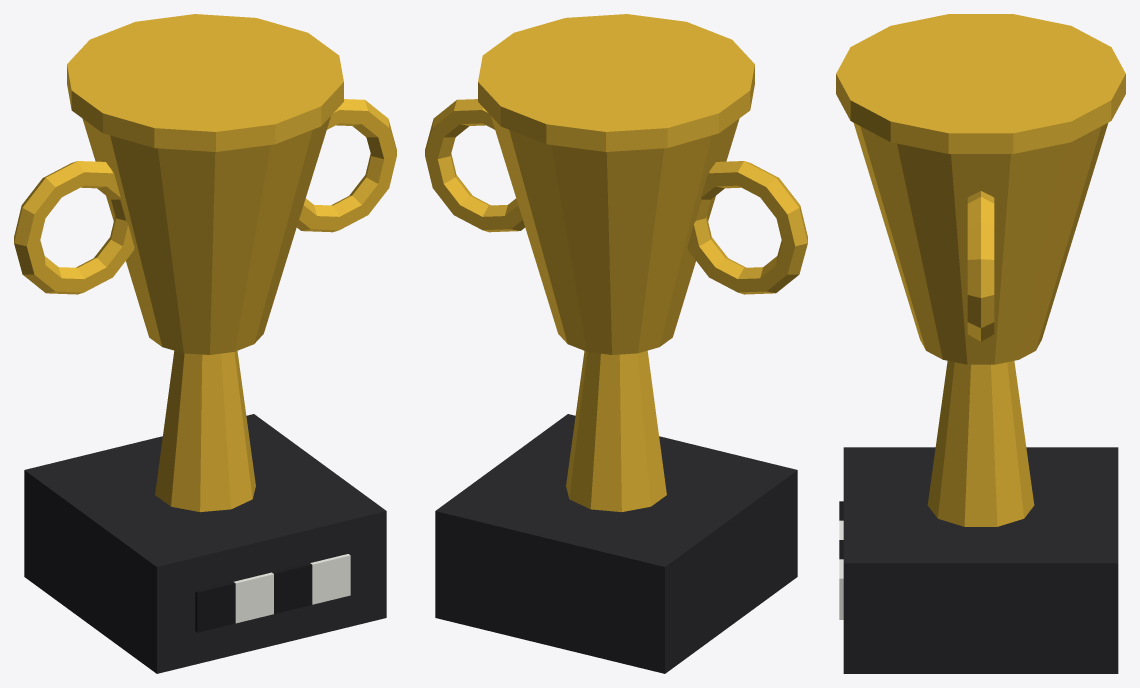
Rendered from garage_race_trophy.glb.
3 views of the same model, side by side, from view 1: azimuth 30°, elevation 25°; view 2: azimuth 150°, elevation 25°; view 3: azimuth 270°, elevation 25° (orthographic). The views are drawn at different scales.
Parts seen in each view (by area): view 1: base_flash_black, cup_trophy_gold, rim_trophy_gold, handles_trophy_gold, stem_trophy_gold, checks_check_black (×2), checks_check_white (×2); view 2: base_flash_black, cup_trophy_gold, rim_trophy_gold, handles_trophy_gold, stem_trophy_gold; view 3: base_flash_black, cup_trophy_gold, rim_trophy_gold, stem_trophy_gold, handles_trophy_gold.
Part boxes in pixels (x1=…): base_flash_black: x1=24, y1=414, x2=386, y2=673; cup_trophy_gold: x1=82, y1=116, x2=330, y2=354; rim_trophy_gold: x1=67, y1=14, x2=343, y2=151; handles_trophy_gold: x1=14, y1=99, x2=396, y2=294; stem_trophy_gold: x1=155, y1=350, x2=255, y2=512; checks_check_black (×2): x1=195, y1=563, x2=312, y2=632; checks_check_white (×2): x1=234, y1=554, x2=350, y2=623; base_flash_black: x1=435, y1=414, x2=797, y2=673; cup_trophy_gold: x1=491, y1=116, x2=739, y2=354; rim_trophy_gold: x1=478, y1=14, x2=754, y2=151; handles_trophy_gold: x1=425, y1=99, x2=807, y2=294; stem_trophy_gold: x1=566, y1=350, x2=666, y2=512; base_flash_black: x1=843, y1=447, x2=1118, y2=673; cup_trophy_gold: x1=853, y1=123, x2=1108, y2=364; rim_trophy_gold: x1=836, y1=14, x2=1125, y2=153; stem_trophy_gold: x1=927, y1=361, x2=1034, y2=526; handles_trophy_gold: x1=967, y1=191, x2=994, y2=341.
Size of the model in its own units: 0.3 by 0.3925 by 0.19.
